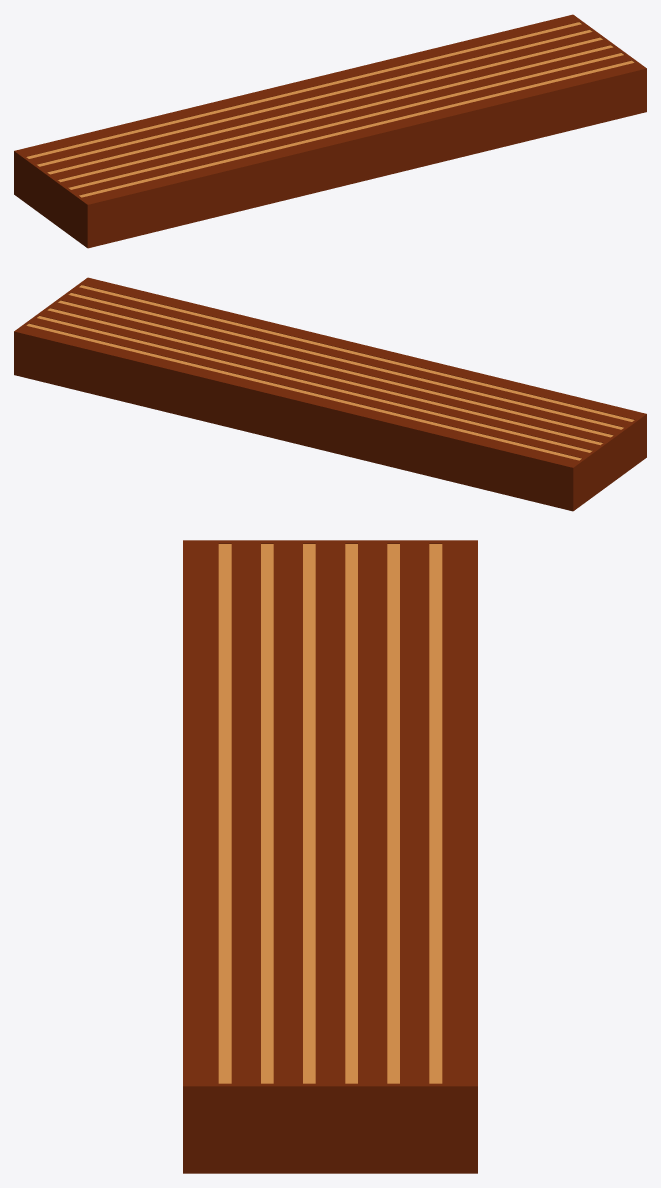
File: masa_ust_cilalanms.fbx
3 renders of one model, top to bottom at view 1: azimuth 30°, elevation 25°; view 2: azimuth 150°, elevation 25°; view 3: azimuth 270°, elevation 25°, orthographic. The views are drawn at different scales.
Parts seen in each view (by area): view 1: masa_üst.001; view 2: masa_üst.001; view 3: masa_üst.001.
Part boxes in pixels (x1,y1,x2,y2): masa_üst.001: (14,14,646,248); masa_üst.001: (14,277,646,511); masa_üst.001: (183,540,477,1173).
Bounding box in the file's own units: 238 × 17.69 × 54.26.
